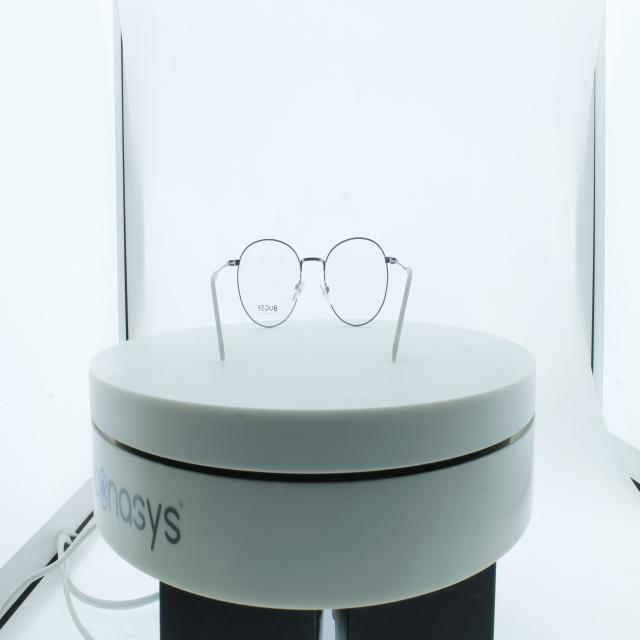Specs: (206, 227, 417, 380)
